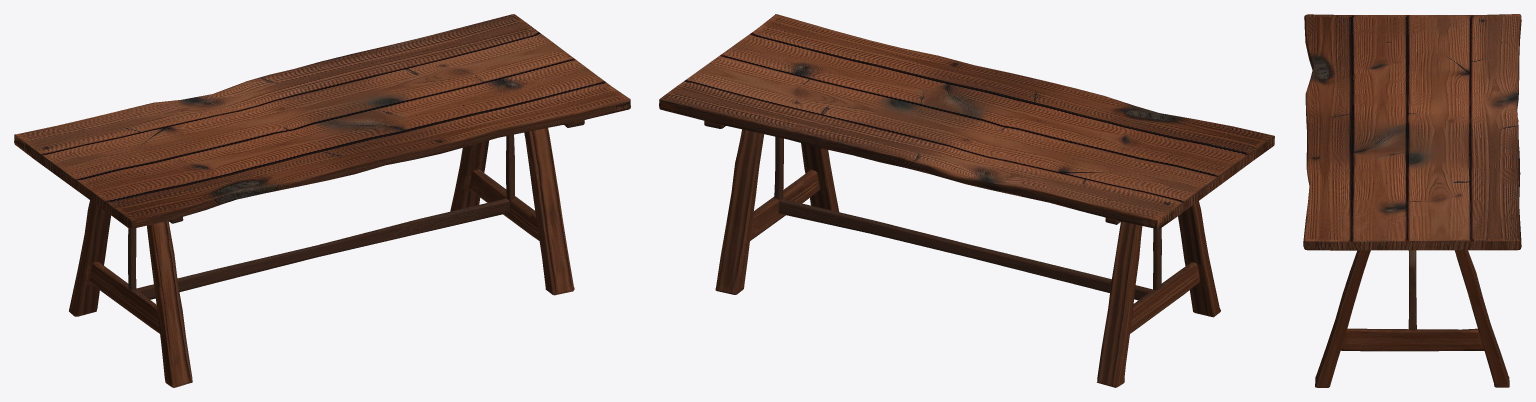
File: long-table.glb
3 views of the same model, side by side, from view 1: azimuth 30°, elevation 25°; view 2: azimuth 150°, elevation 25°; view 3: azimuth 270°, elevation 25° (orthographic). The views are drawn at different scales.
Size of the model in its own units: 2.2 by 0.78 by 0.9.
Materials: 1 (1 with a texture image).
